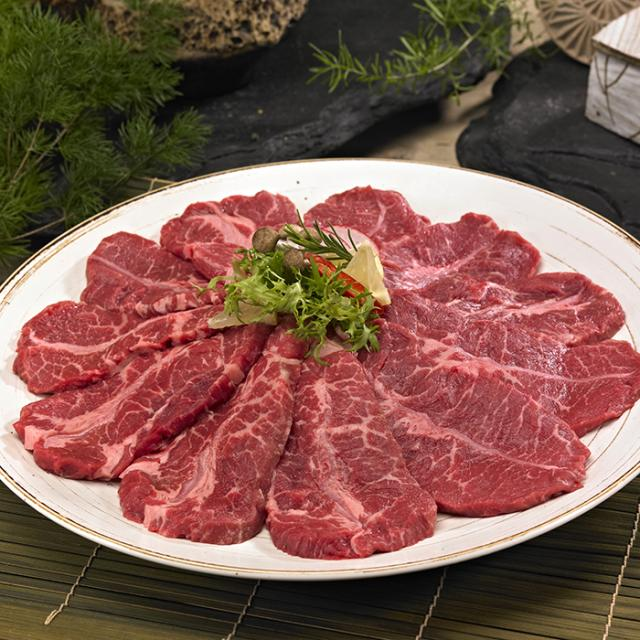beef: (51, 264, 373, 518), (378, 227, 624, 484)
